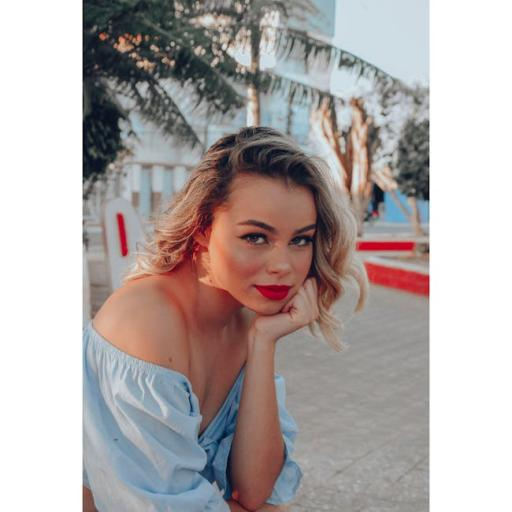lipstick: (256, 286, 291, 300)
